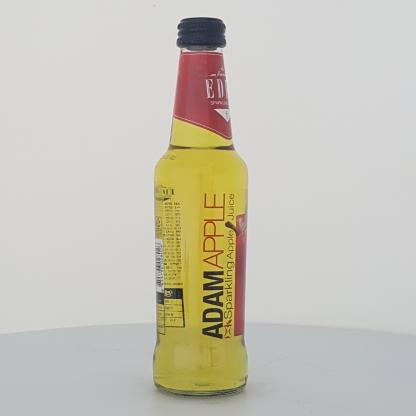----------------: (152, 34, 249, 416)
